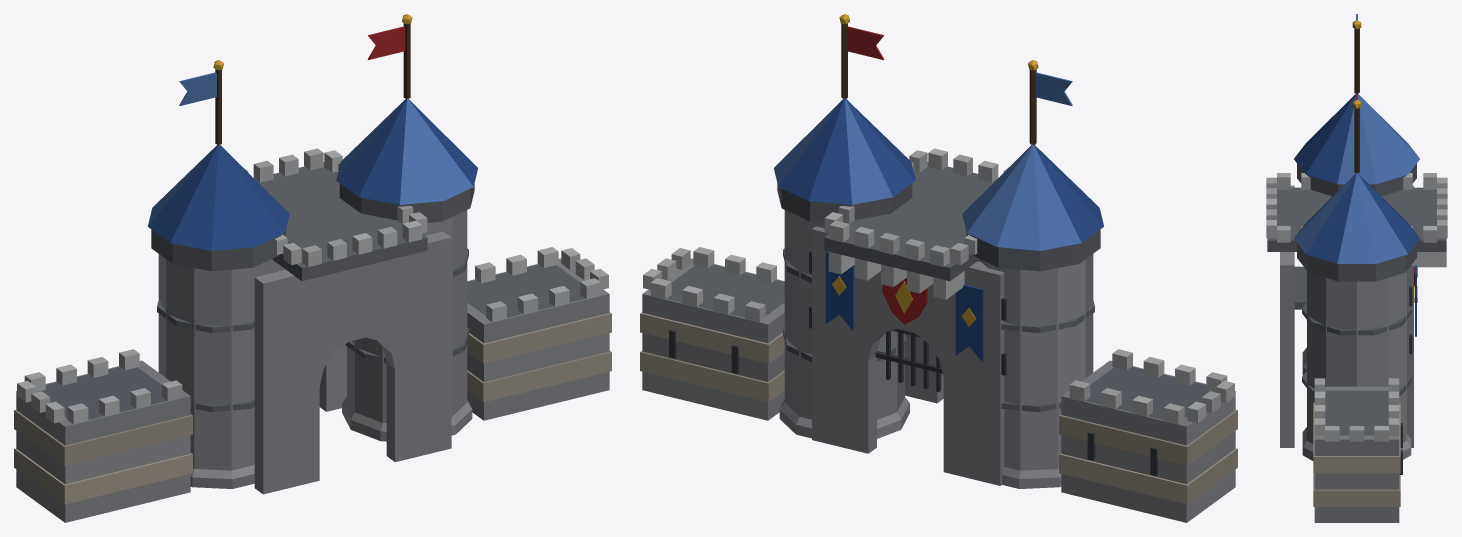
Rendered from Decor_KnightCastle_Gatehouse.fbx.
3 views of the same model, side by side, from view 1: azimuth 30°, elevation 25°; view 2: azimuth 150°, elevation 25°; view 3: azimuth 270°, elevation 25° (orthographic). The views are drawn at different scales.
Parts seen in each view (by area): view 1: Gatehouse_Body; view 2: Gatehouse_Body; view 3: Gatehouse_Body.
Boxes of the visible parts, box(x1,y1,x2,y2) form: Gatehouse_Body: box(14, 14, 611, 522); Gatehouse_Body: box(640, 14, 1237, 522); Gatehouse_Body: box(1266, 14, 1447, 522).
Bounding box in the file's own units: 52 × 36 × 17.
